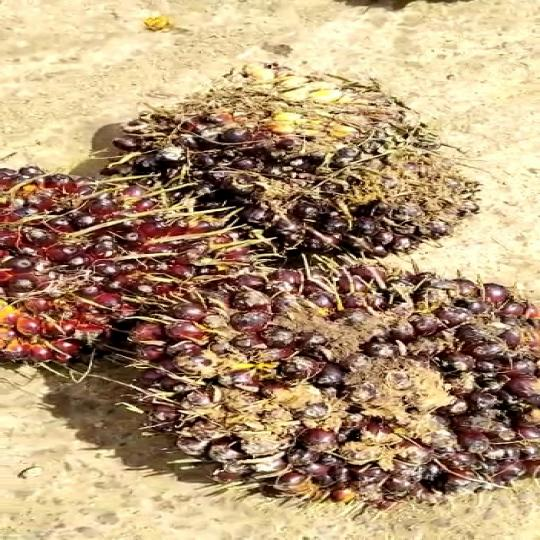kurang masak: (113, 263, 540, 505), (109, 63, 483, 242), (0, 165, 232, 357)
